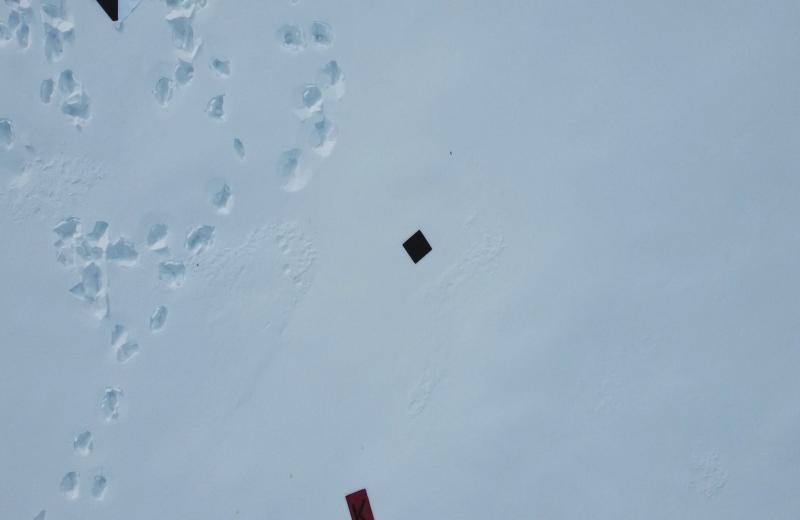Rectangle: (344, 487, 377, 520)
Square: (401, 228, 433, 266)
